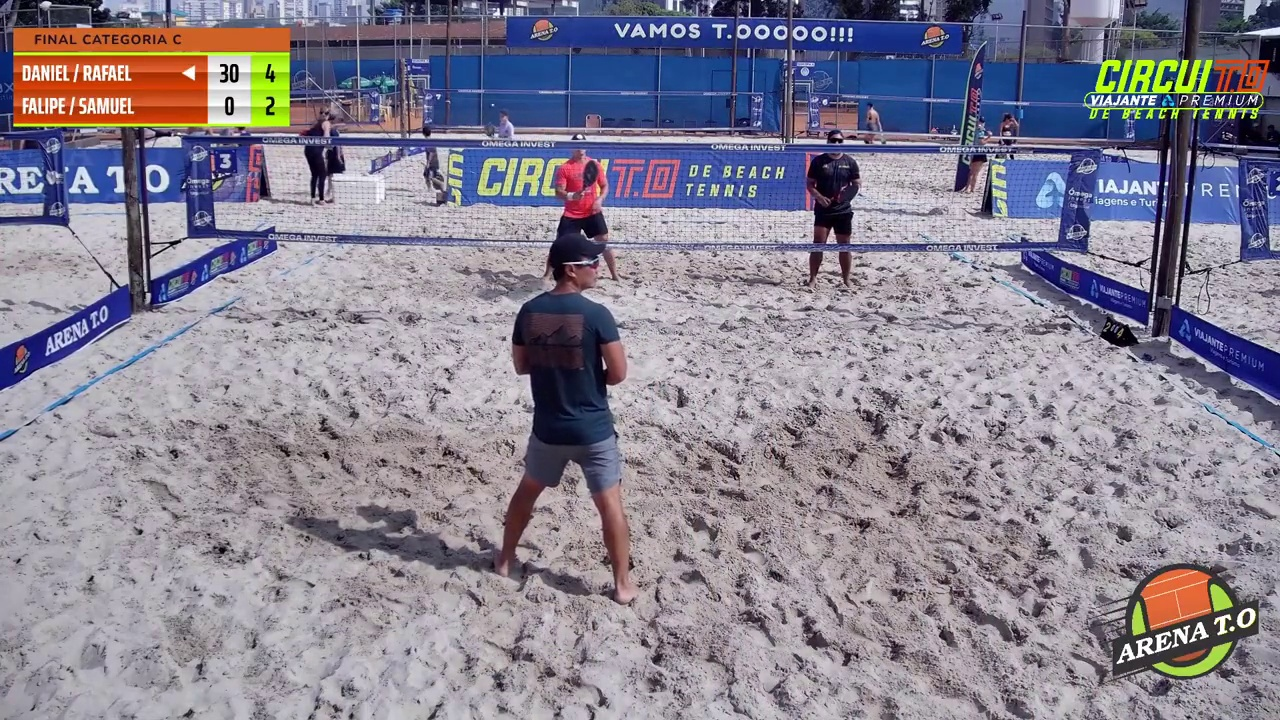court_line: (634, 0, 808, 376)
